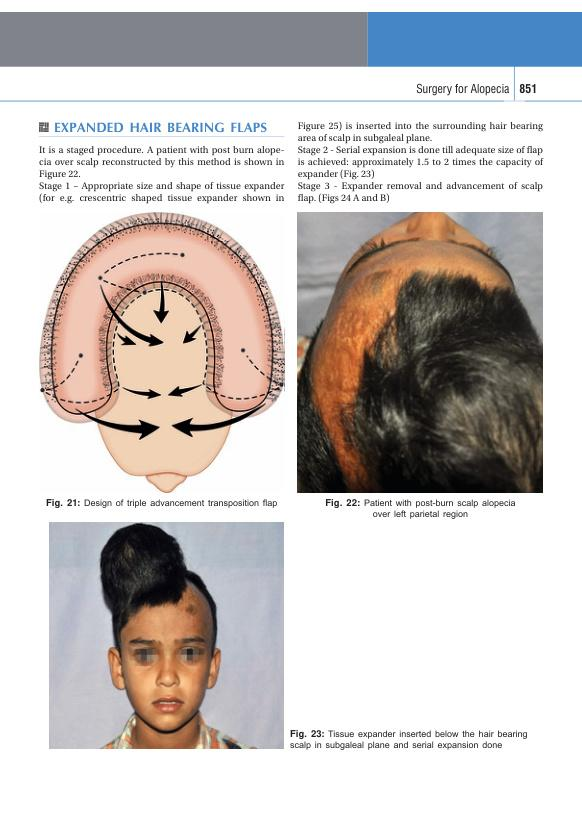caption: (288, 728, 528, 752), (324, 497, 516, 520), (45, 497, 278, 508)
header: (416, 82, 510, 97)
image: (35, 209, 289, 496), (297, 211, 543, 494), (48, 520, 285, 750)
section-heading: (53, 121, 268, 133)
text: (296, 120, 545, 204), (38, 144, 285, 205)
